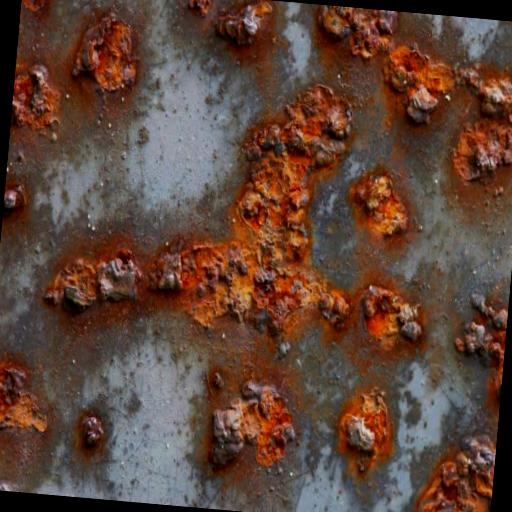segmentation: (30, 74, 450, 454), (64, 8, 158, 102), (212, 380, 294, 465), (419, 434, 496, 512), (346, 165, 414, 243), (451, 301, 508, 394), (357, 284, 427, 342), (338, 387, 388, 461), (10, 62, 62, 129), (0, 364, 45, 428), (77, 412, 106, 448), (4, 185, 26, 210), (21, 0, 48, 10)
